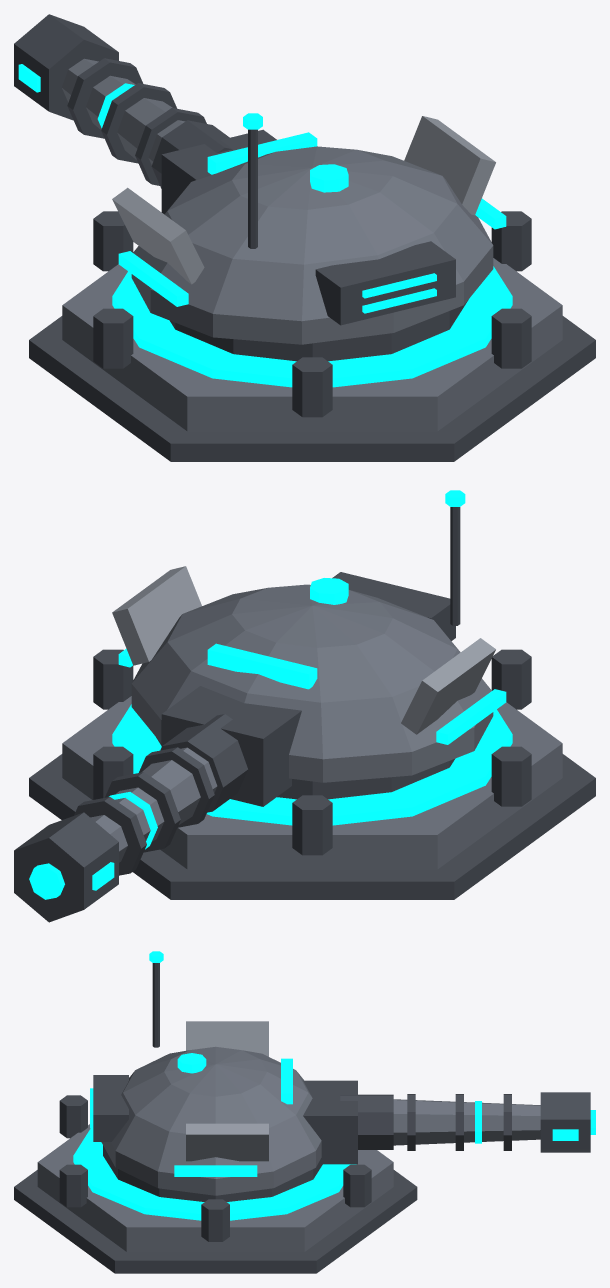
File: turret_lvl2.fbx
3 views of the same model, one above another, from view 1: azimuth 30°, elevation 25°; view 2: azimuth 150°, elevation 25°; view 3: azimuth 270°, elevation 25° (orthographic). The views are drawn at different scales.
Parts seen in each view (by area): view 1: Dome_05, Base_01, BaseSkirt_02, Neon_BaseRing_03, BackVent_21, MuzzleBrake_14, Pivot_04, ArmorPlate_25, ArmorPlate_24, BarrelTube_09, BarrelMount_07, BasePylon_32 (+14 smaller); view 2: Dome_05, Base_01, BaseSkirt_02, Neon_BaseRing_03, BarrelMount_07, MuzzleBrake_14, ArmorPlate_25, ArmorPlate_24, BarrelTube_09, BarrelSleeve_08, BackVent_21, Neon_Visor_18 (+14 smaller); view 3: Dome_05, Base_01, BaseSkirt_02, Neon_BaseRing_03, BarrelTube_09, BarrelMount_07, ArmorPlate_25, MuzzleBrake_14, ArmorPlate_24, BarrelSleeve_08, BackVent_21, Pivot_04 (+11 smaller).
Boxes of the visible parts, <box> form: Dome_05: <box>131,146,493,344</box>; Base_01: <box>62,258,562,431</box>; BaseSkirt_02: <box>29,316,595,461</box>; Neon_BaseRing_03: <box>112,266,512,387</box>; BackVent_21: <box>315,241,455,325</box>; MuzzleBrake_14: <box>14,14,118,120</box>; Pivot_04: <box>170,299,468,361</box>; ArmorPlate_25: <box>404,116,495,215</box>; ArmorPlate_24: <box>112,187,204,284</box>; BarrelTube_09: <box>62,58,185,164</box>; BarrelMount_07: <box>161,129,276,213</box>; BasePylon_32: <box>292,357,332,417</box>; Dome_05: <box>131,584,493,782</box>; Base_01: <box>62,696,562,869</box>; BaseSkirt_02: <box>29,754,595,899</box>; Neon_BaseRing_03: <box>112,704,512,825</box>; BarrelMount_07: <box>161,686,301,806</box>; MuzzleBrake_14: <box>14,812,118,922</box>; ArmorPlate_25: <box>112,566,201,665</box>; ArmorPlate_24: <box>401,638,495,734</box>; BarrelTube_09: <box>90,747,217,862</box>; BarrelSleeve_08: <box>160,714,248,812</box>; BackVent_21: <box>332,572,455,640</box>; Neon_Visor_18: <box>207,643,317,689</box>; Dome_05: <box>101,1046,321,1195</box>; Base_01: <box>37,1124,393,1251</box>; BaseSkirt_02: <box>14,1170,417,1273</box>; Neon_BaseRing_03: <box>73,1128,356,1220</box>; BarrelTube_09: <box>393,1099,540,1145</box>; BarrelMount_07: <box>303,1080,357,1164</box>; ArmorPlate_25: <box>186,1123,268,1161</box>; MuzzleBrake_14: <box>540,1092,590,1152</box>; ArmorPlate_24: <box>186,1021,268,1056</box>; BarrelSleeve_08: <box>340,1094,393,1149</box>; BackVent_21: <box>93,1075,128,1141</box>; Pivot_04: <box>103,1145,322,1201</box>.
Size of the model in its own units: 297 by 196 by 491.
